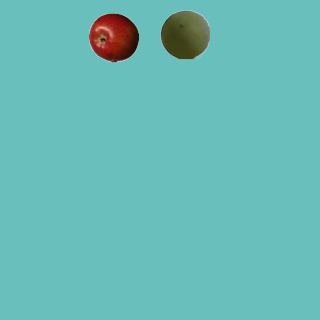Apple Braeburn: (88, 12, 138, 62)
Grape White 4: (159, 9, 209, 59)
